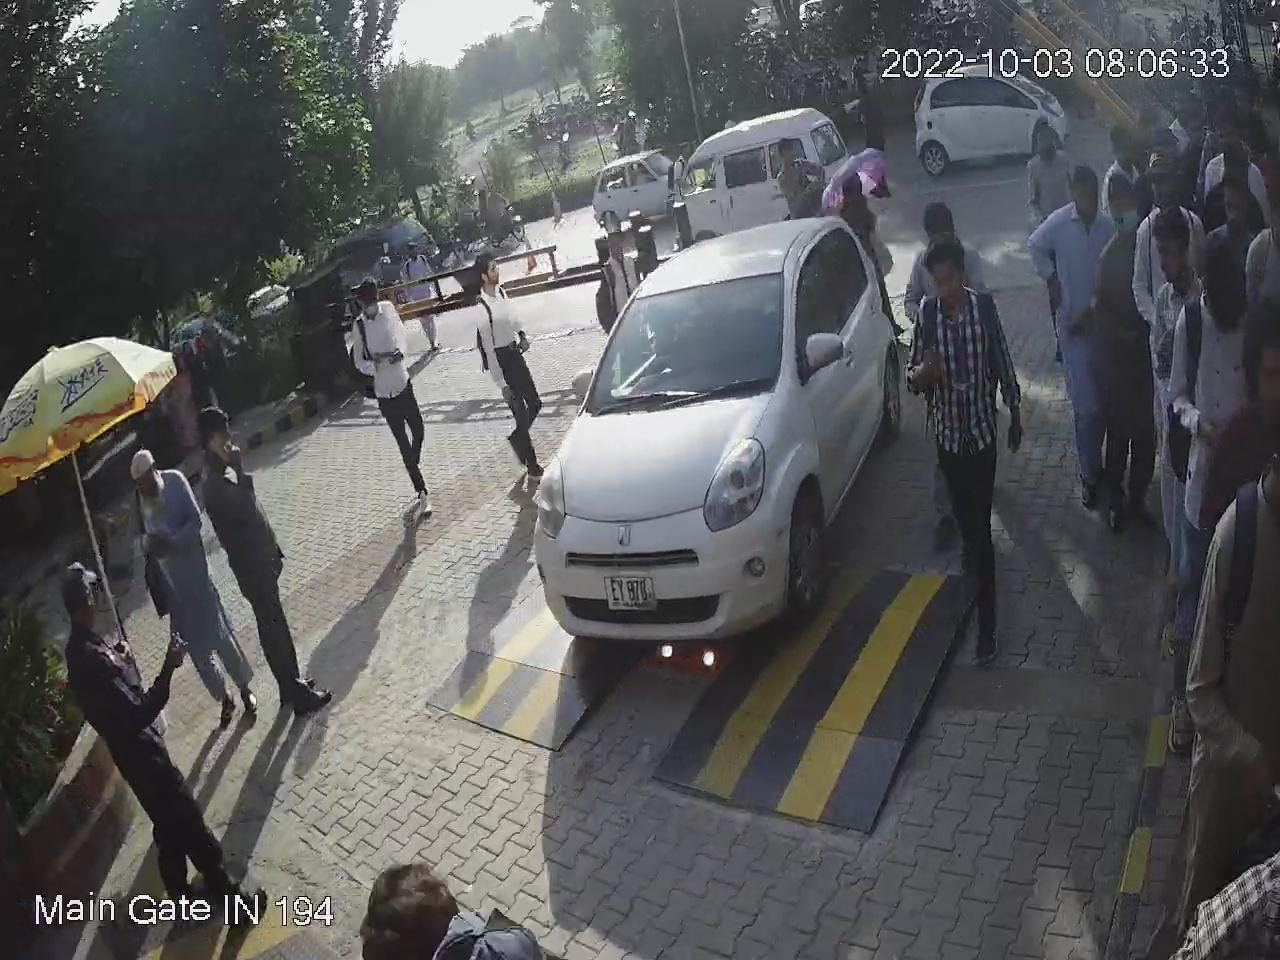windshield: (570, 265, 788, 421)
